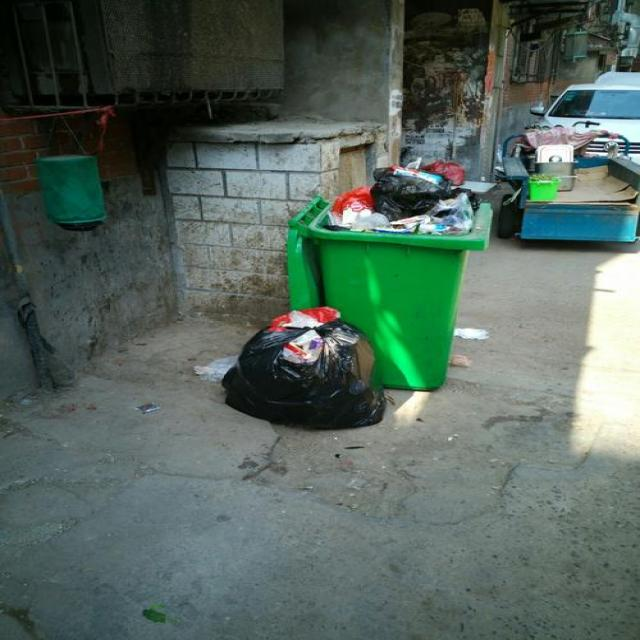garbage: (193, 303, 387, 431)
overflow: (282, 158, 492, 392)
